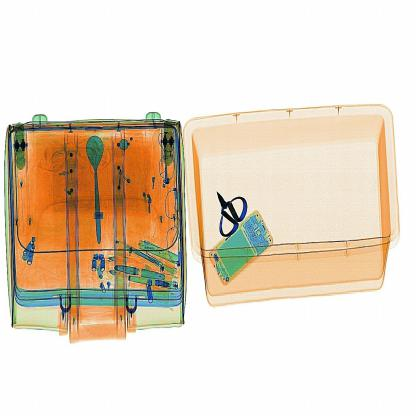gun: (201, 180, 254, 243)
